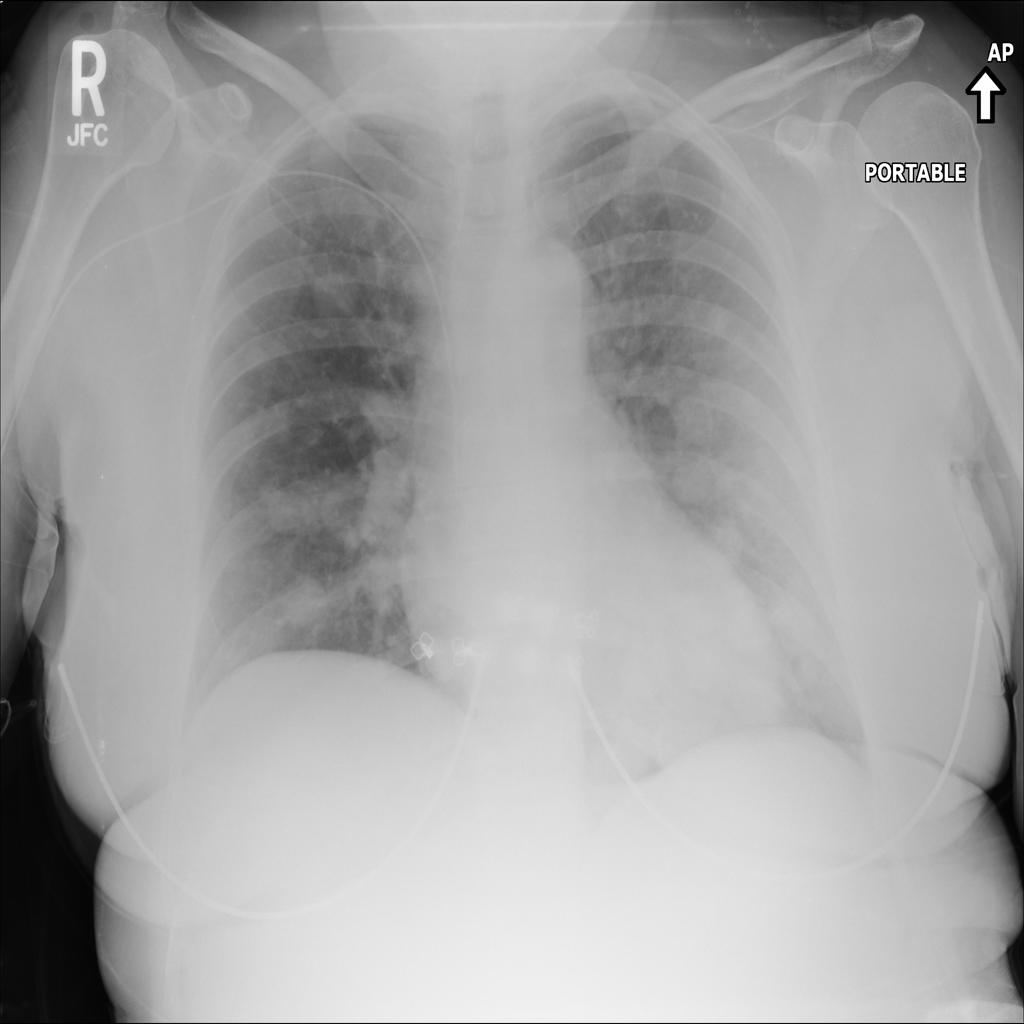nodule: (258, 466, 339, 544), (267, 568, 341, 643), (719, 665, 797, 736), (667, 381, 738, 458), (765, 584, 832, 665), (350, 376, 422, 450), (685, 506, 757, 578), (659, 444, 725, 522), (300, 256, 369, 327), (695, 289, 742, 344), (234, 333, 285, 381)
